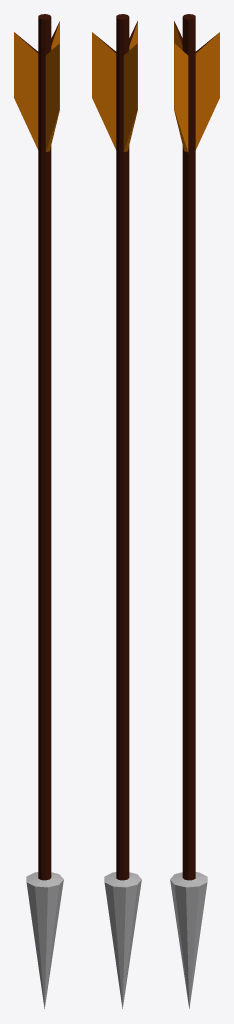
Rendered from Arrow.fbx.
3 views of the same model, side by side, from view 1: azimuth 30°, elevation 25°; view 2: azimuth 150°, elevation 25°; view 3: azimuth 330°, elevation 25° (orthographic).
Visible parts, largest first — view 1: Arrow; view 2: Arrow; view 3: Arrow.
Boxes of the visible parts, bbox=[...] form: Arrow: bbox=[14, 14, 63, 1008]; Arrow: bbox=[92, 14, 141, 1008]; Arrow: bbox=[170, 14, 219, 1008].
Size of the model in its own units: 0.0394 by 0.8137 by 0.0371.
